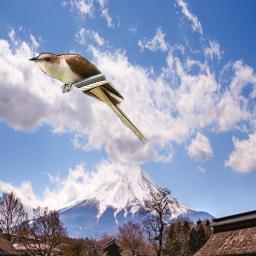Cuckoo: (28, 52, 149, 145)
